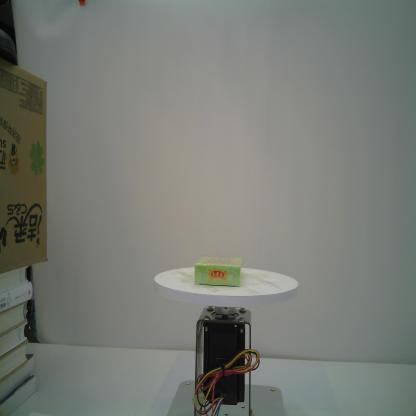Candy: (193, 254, 244, 288)
